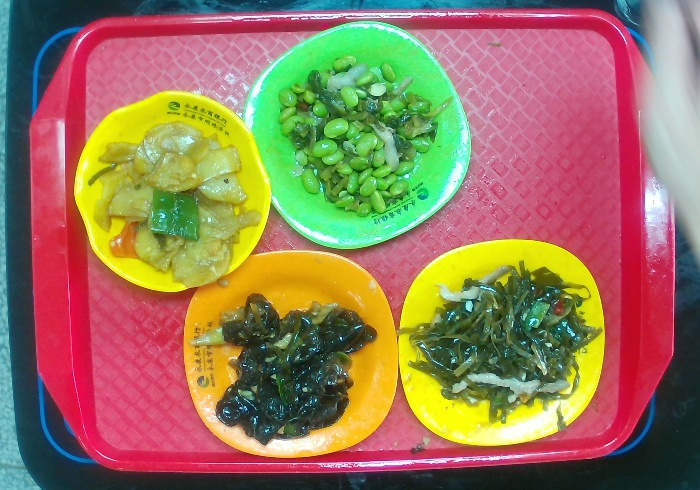YKMZ-Huang_Se_Ao_Bian_Wan: (62, 81, 275, 304)
YKMZ-Huang_Se_Fang_Die: (392, 230, 616, 450)
YKMZ-Ju_Se_Fang_Die: (177, 238, 407, 459)
YKMZ-Lv_Se_Fang_Die: (239, 17, 485, 251)
